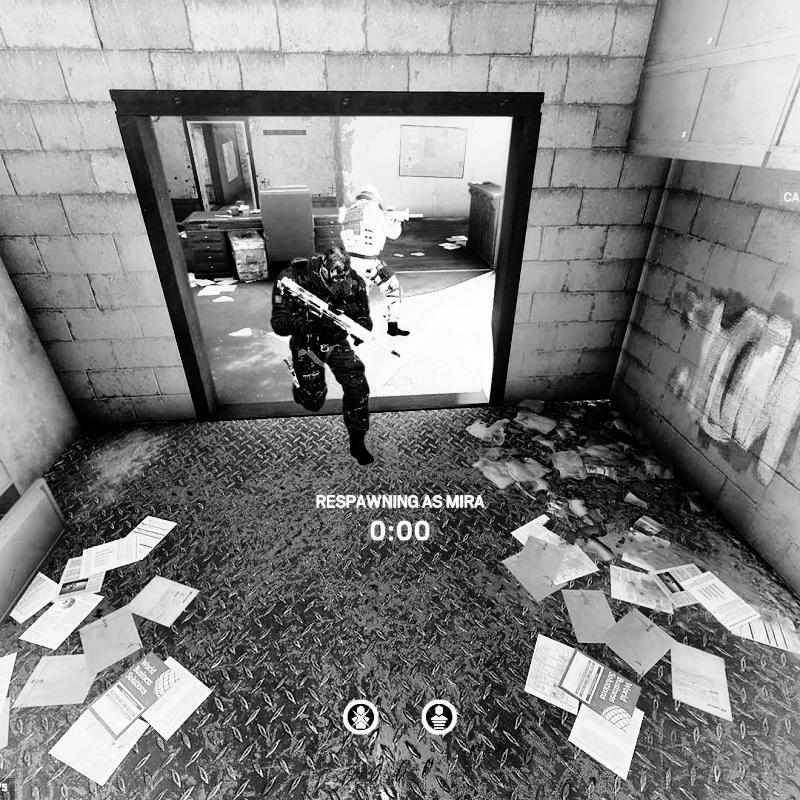Character: (270, 246, 403, 466), (336, 184, 416, 342)
Head: (322, 246, 349, 284), (359, 184, 381, 205)
